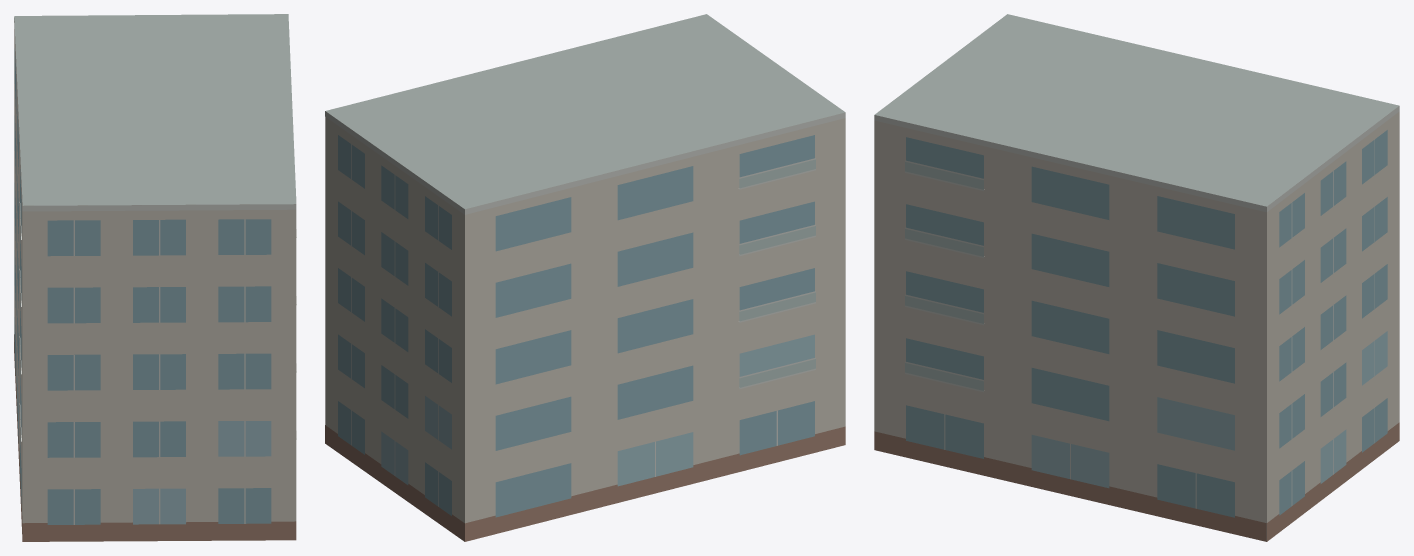
Rendered from survey-upis-32891900.glb.
The picture shows the model from 3 angles, left to right: view 1: azimuth 30°, elevation 25°; view 2: azimuth 150°, elevation 25°; view 3: azimuth 270°, elevation 25°; orthographic projection.
Parts seen in each view (by area): view 1: survey-upis-32891900.tmp; view 2: survey-upis-32891900.tmp; view 3: survey-upis-32891900.tmp.
Boxes of the visible parts, <box> form: survey-upis-32891900.tmp: <box>14,14,296,541</box>; survey-upis-32891900.tmp: <box>325,14,845,541</box>; survey-upis-32891900.tmp: <box>874,14,1399,541</box>.
Size of the model in its own units: 17.88 by 14.5 by 20.6.
